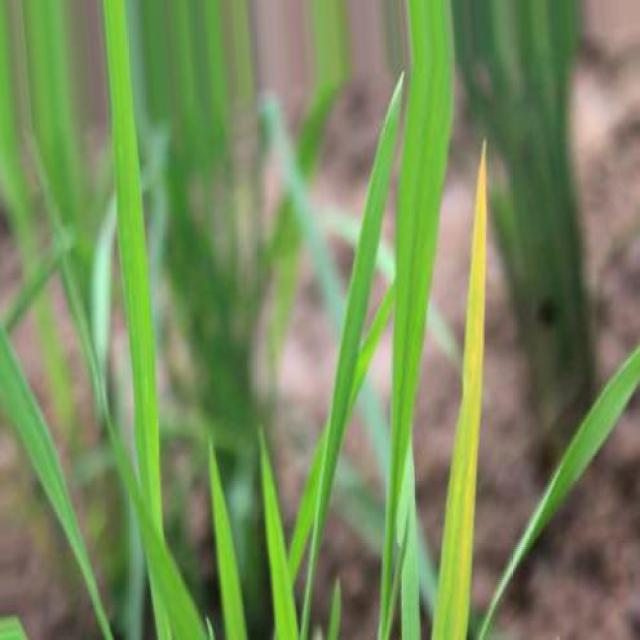Rice Tungro: (431, 142, 488, 638)
